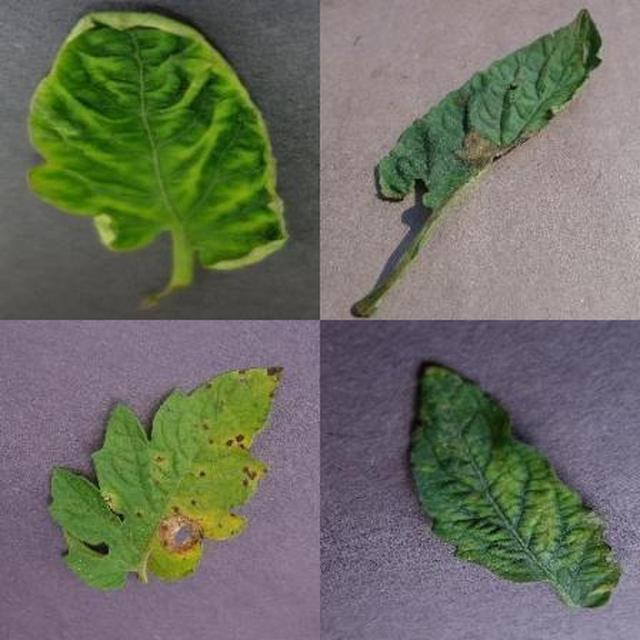Yellow Leaf Curl Virus: (224, 155, 640, 640)
